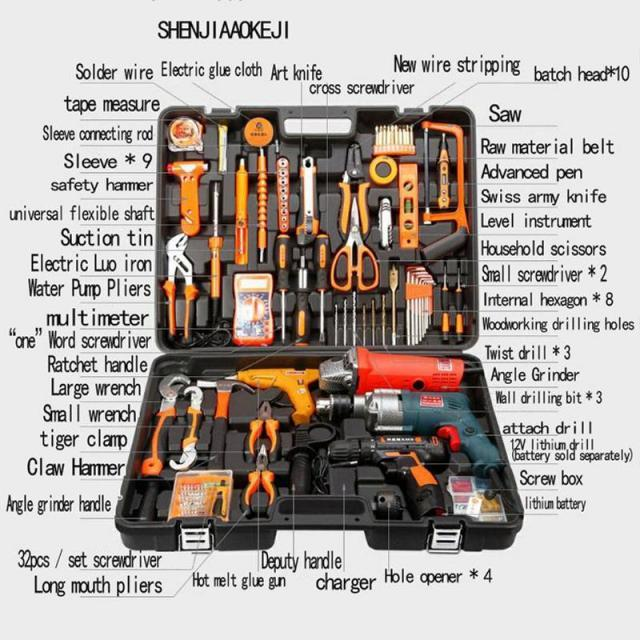hammer: (194, 373, 254, 481)
screwdriver: (312, 230, 334, 351), (273, 232, 293, 351)
